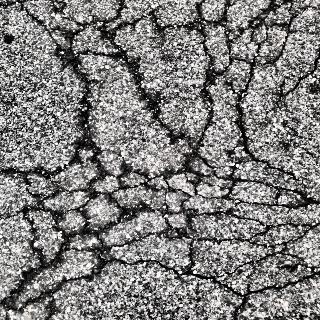alligator-crack: (22, 140, 303, 302), (35, 8, 296, 70)
crack: (126, 78, 183, 134), (50, 80, 107, 134), (236, 80, 264, 144), (197, 82, 226, 143), (275, 75, 317, 108)
